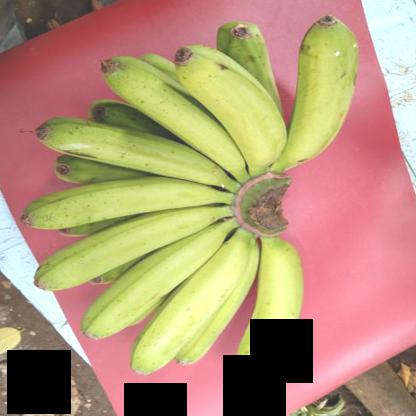freshunripe: (93, 57, 250, 180), (125, 235, 258, 380), (28, 204, 226, 298), (77, 228, 233, 343), (168, 49, 288, 178), (10, 178, 230, 235), (230, 238, 310, 384)
unripe: (263, 16, 372, 166), (30, 113, 246, 188)
